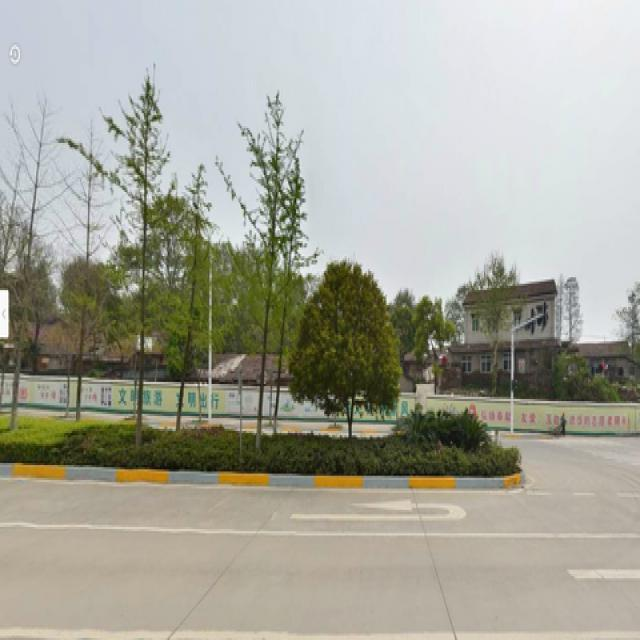gink: (232, 74, 289, 443), (111, 85, 168, 433)
